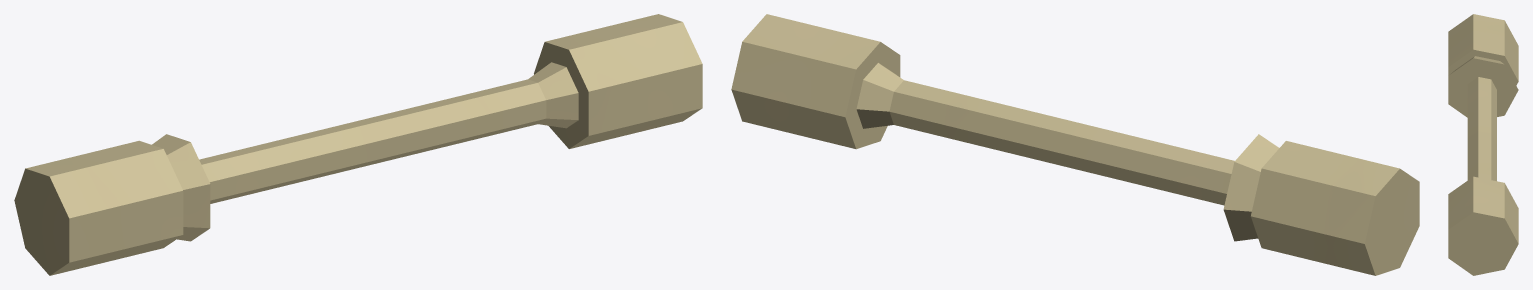
File: WarrensC_WVC082_SingleChimeBone_Mars_SM.fbx
The picture shows the model from 3 angles, left to right: view 1: azimuth 30°, elevation 25°; view 2: azimuth 150°, elevation 25°; view 3: azimuth 270°, elevation 25°; orthographic projection. The views are drawn at different scales.
Visible parts, largest first — view 1: WarrensC_WVC082_SingleChimeBone_Mars_SM.001; view 2: WarrensC_WVC082_SingleChimeBone_Mars_SM.001; view 3: WarrensC_WVC082_SingleChimeBone_Mars_SM.001.
Boxes of the visible parts, x1,y1,x2,y2 form: WarrensC_WVC082_SingleChimeBone_Mars_SM.001: (14,14,702,275); WarrensC_WVC082_SingleChimeBone_Mars_SM.001: (731,14,1419,275); WarrensC_WVC082_SingleChimeBone_Mars_SM.001: (1448,14,1518,275).
Bounding box in the file's own units: 80 × 12 × 12.
